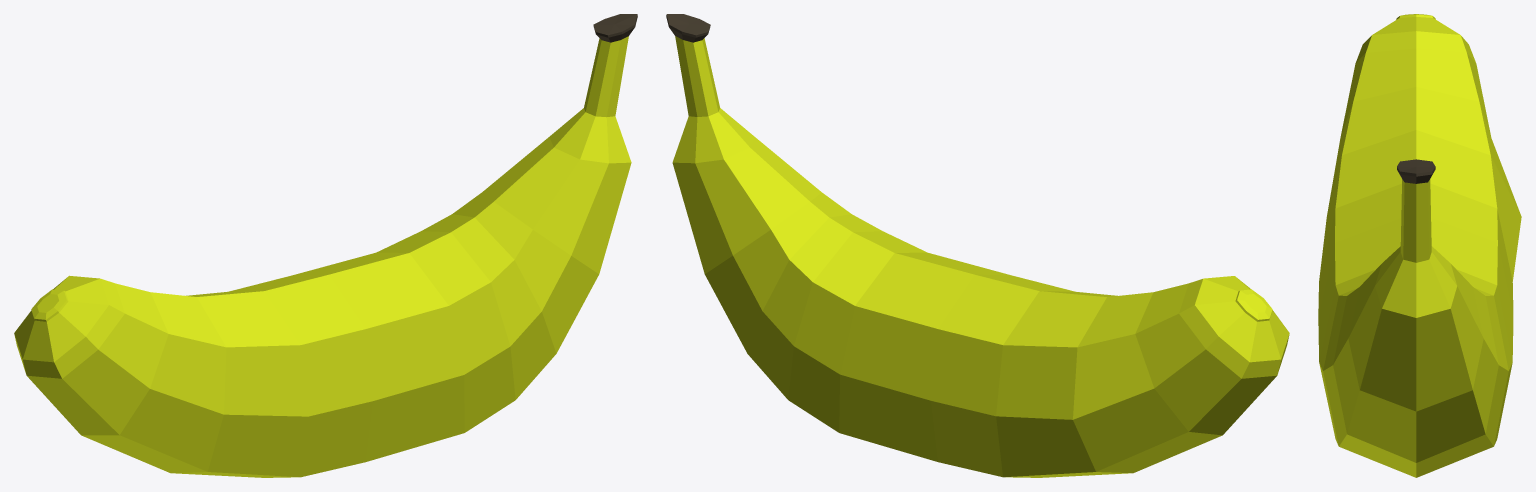
Rendered from banaan.fbx.
3 renders of one model, left to right at view 1: azimuth 30°, elevation 25°; view 2: azimuth 150°, elevation 25°; view 3: azimuth 270°, elevation 25°, orthographic. The views are drawn at different scales.
Visible parts, largest first — view 1: Cylinder; view 2: Cylinder; view 3: Cylinder.
Part boxes in pixels (x1,y1,x2,y2): Cylinder: [14, 14, 637, 477]; Cylinder: [666, 14, 1289, 477]; Cylinder: [1318, 14, 1521, 477].
Size of the model in its own units: 6.89 by 4 by 1.78.
